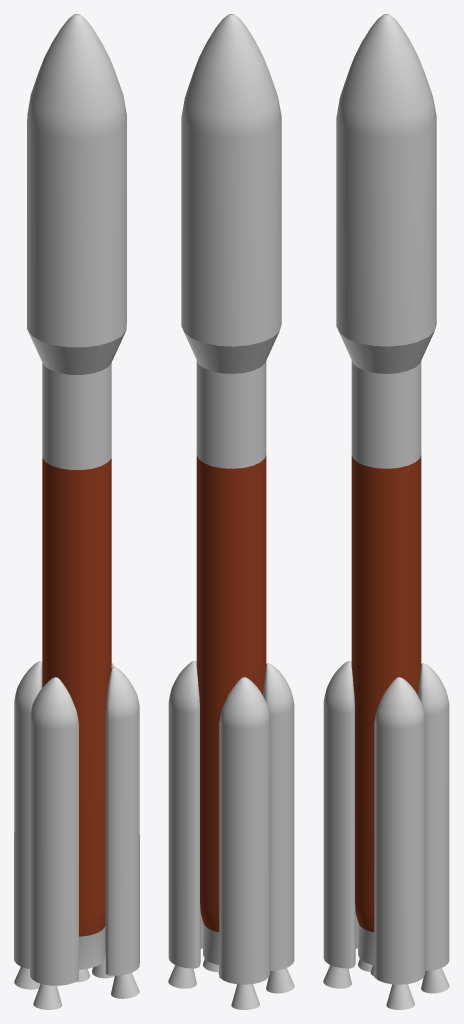
The model's file is AtlasV.obj.
The picture shows the model from 3 angles, left to right: view 1: azimuth 30°, elevation 25°; view 2: azimuth 150°, elevation 25°; view 3: azimuth 330°, elevation 25°; orthographic projection.
Visible parts, largest first — view 1: AtlasV; view 2: AtlasV; view 3: AtlasV.
Part boxes in pixels (x1,y1,x2,y2): AtlasV: (14,14,139,1009); AtlasV: (168,14,294,1009); AtlasV: (323,14,449,1009).
Size of the model in its own units: 1.59 by 14.31 by 1.34.
